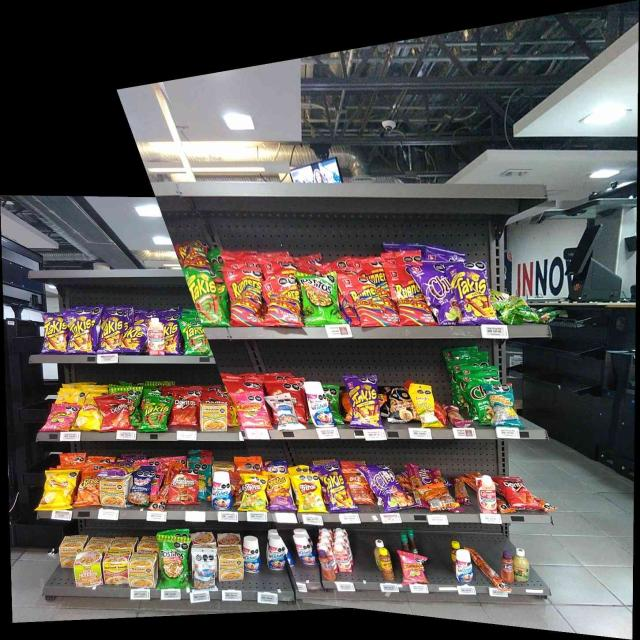bitzEnchilado90: (348, 469, 368, 503)
bitzEnchilado95: (474, 548, 489, 576), (156, 490, 167, 510)
bitzHabanero: (456, 475, 469, 505), (446, 405, 465, 425), (407, 462, 421, 488)
bokadosCacahuates: (131, 469, 149, 506)
botaneraChilito: (380, 548, 396, 580)
cheetosFlaminHot: (267, 475, 290, 509)
cheetosOriginal: (79, 474, 100, 506)
chipsFuego: (429, 270, 453, 322), (376, 470, 399, 508)
chipsJalapeno: (470, 382, 490, 425)
churrumais: (238, 394, 266, 427), (402, 556, 425, 582), (52, 405, 72, 431)
delPrimoSalsa: (514, 547, 531, 583)
doritosNacho: (173, 391, 196, 424), (505, 479, 526, 508), (108, 398, 128, 426), (204, 394, 227, 403)
fritosLimon: (297, 479, 322, 512), (243, 477, 264, 510)
leoCacahuates: (275, 393, 296, 428), (194, 553, 214, 587)
maruchanPollo: (218, 549, 244, 580), (102, 479, 126, 507), (202, 405, 226, 430), (131, 560, 154, 586), (60, 548, 74, 570)
maruchanRes: (104, 554, 127, 585)
nestleCarnation: (477, 479, 498, 514), (148, 318, 165, 355), (334, 542, 351, 572)
nestleLechera: (307, 383, 331, 427), (212, 471, 232, 510), (268, 535, 288, 570), (244, 535, 262, 572), (454, 549, 472, 582), (297, 534, 314, 566)
nissinCamaron: (76, 558, 102, 586)
popKarameladas: (385, 387, 412, 421)
productoAtras: (430, 485, 450, 510)
rancheritos: (173, 477, 196, 502)
runners: (348, 282, 392, 326), (232, 272, 263, 324), (394, 278, 428, 322), (269, 284, 299, 324)
sabritasOriginal: (45, 473, 71, 509), (82, 398, 99, 427)
salsaBufalo: (408, 524, 418, 552), (398, 532, 406, 549)
semillasCalabaza: (414, 385, 434, 425)
semillasGirasol: (492, 389, 515, 425), (199, 468, 210, 500)
tajinDulce: (317, 549, 333, 581), (501, 548, 513, 583)
takisFuego: (456, 269, 487, 320), (350, 376, 378, 426), (68, 317, 95, 353), (323, 473, 345, 511), (44, 317, 67, 353), (100, 319, 124, 352), (124, 325, 143, 351), (166, 319, 180, 354)
takisOriginal: (190, 273, 218, 322), (144, 394, 169, 430), (182, 322, 208, 354)
tostitos: (302, 277, 334, 323), (161, 542, 188, 585), (129, 393, 140, 422)
